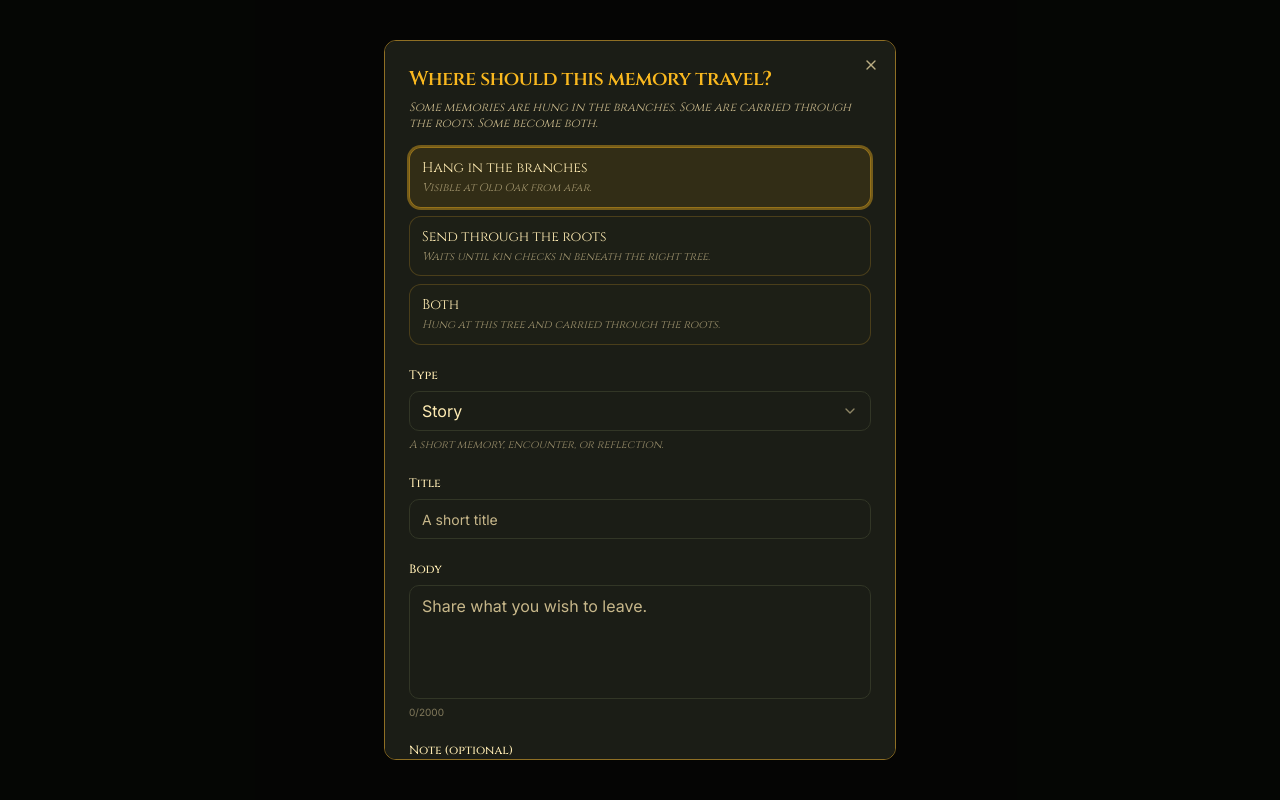
Scenario: MemorySeedComposer submit flow › 2. whisper only — sendWhisper once, fires whisper-sent, no offering-created
Click the text "Send through the roots".
click(514, 236)  # box [422,226,606,246]
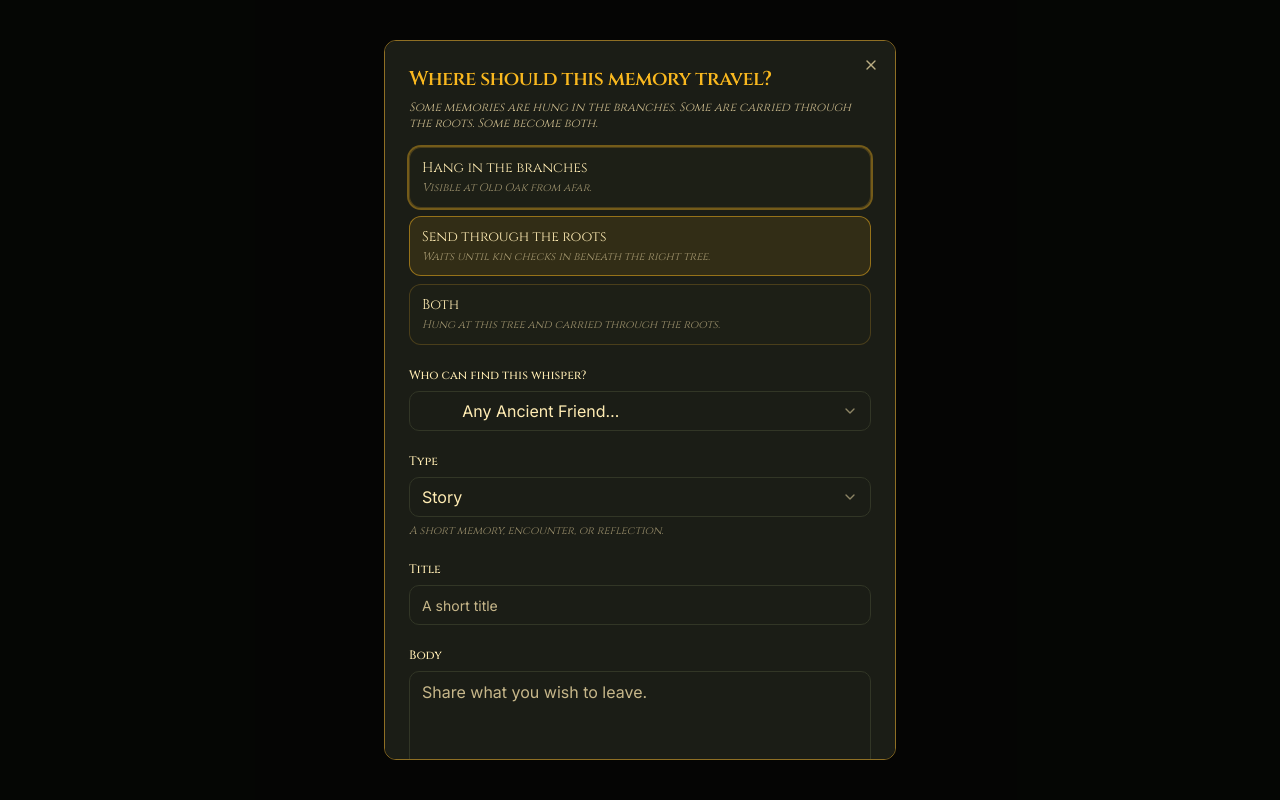
Type "Hello" into the field labelled "Title".
click(640, 605); type("Hello")  # box [409,585,871,625]
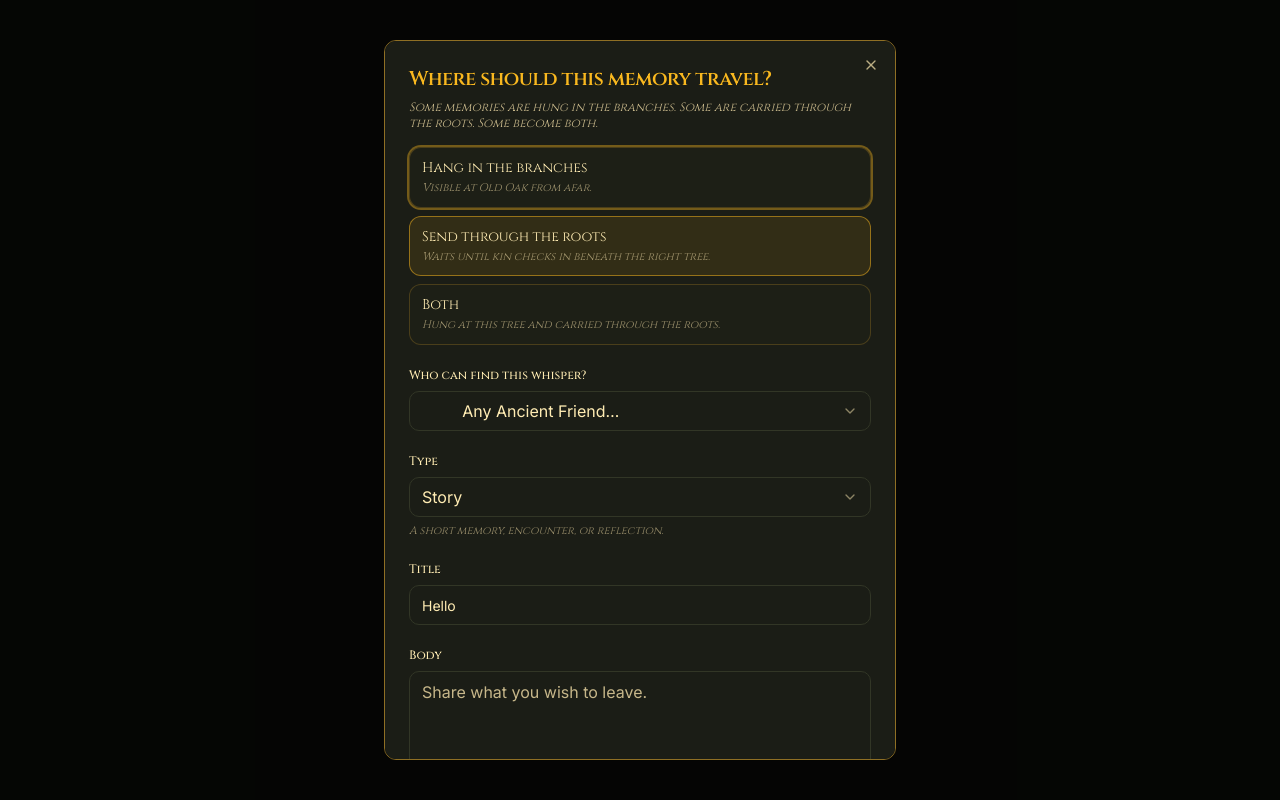
Type "Body text" into the text box labelled "Body".
click(640, 728); type("Body text")  # box [409,671,871,785]
(page scrolled)
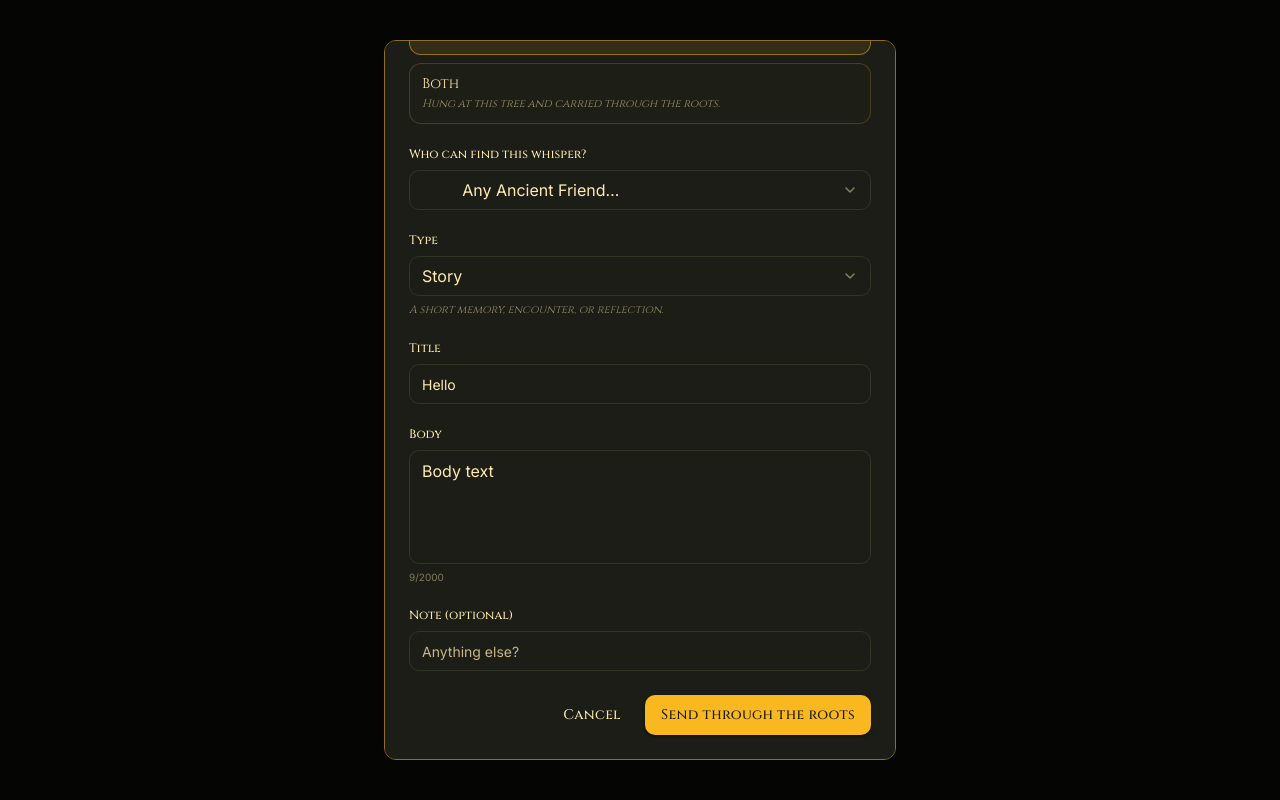
Click the button "Send through the roots".
click(758, 715)  # box [645,695,871,735]
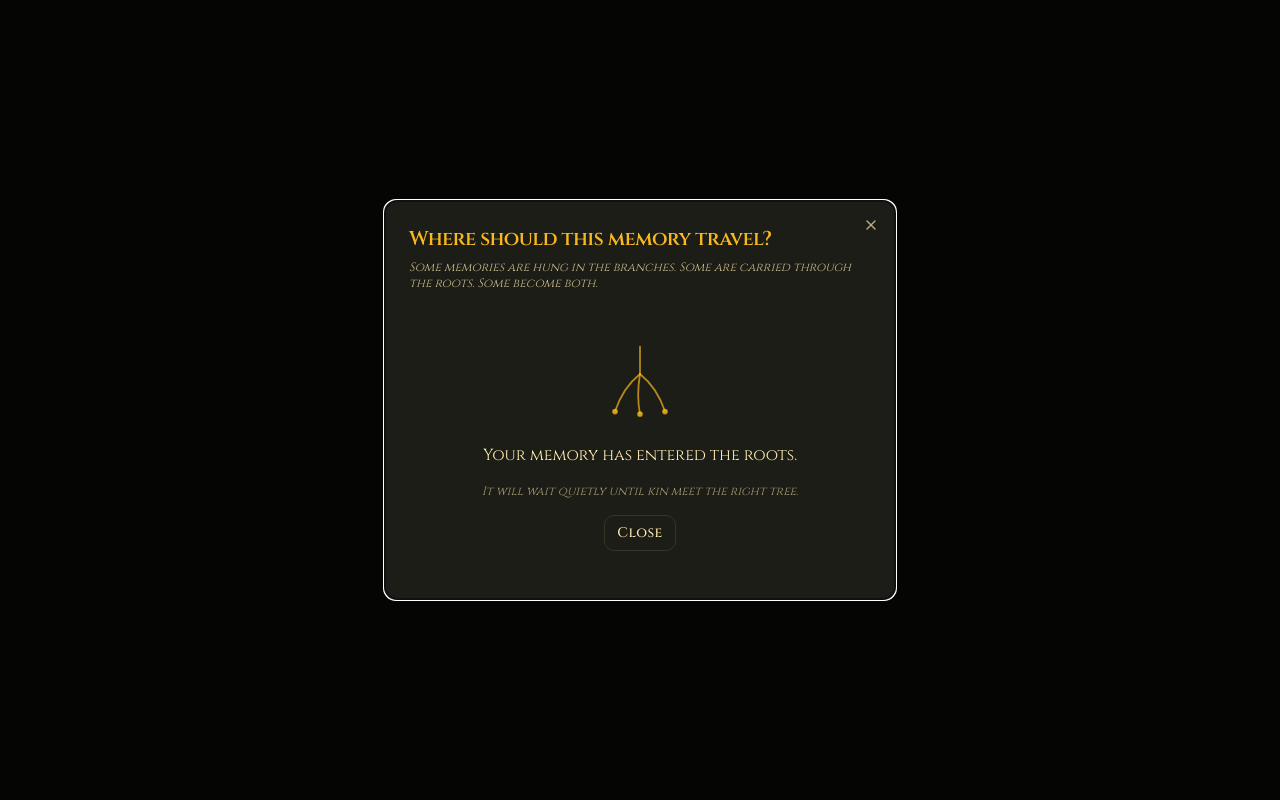
expect the text "Your memory has entered the roots." is shown: met, box [483,444,797,466]
